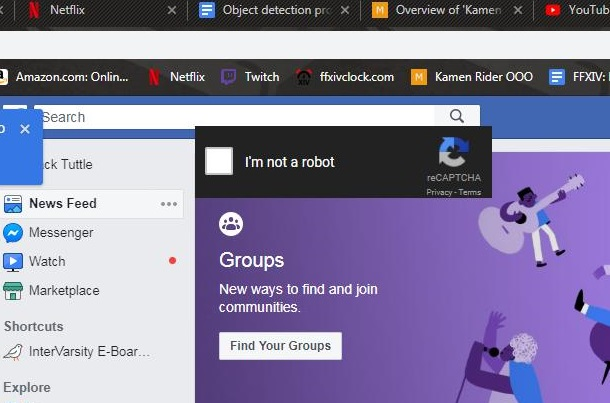captcha: (204, 146, 337, 176)
